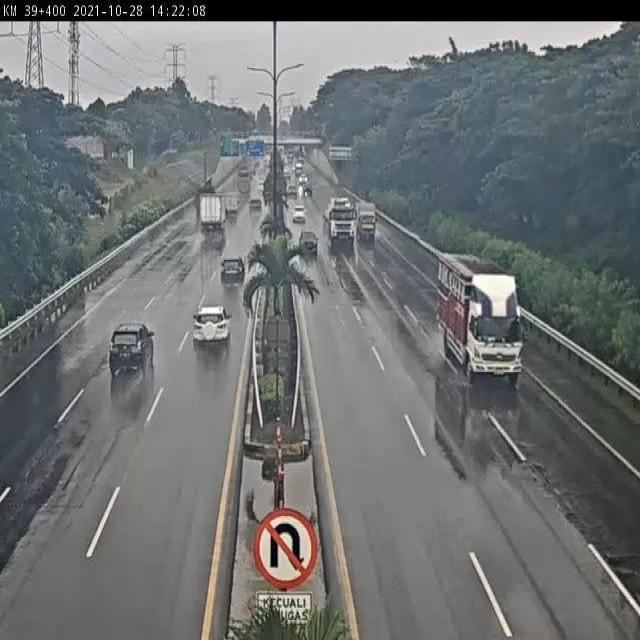car: (104, 322, 158, 378), (188, 304, 234, 355), (219, 254, 246, 286), (299, 228, 320, 256)
truck-l-: (435, 256, 524, 379), (196, 194, 224, 234)
truck-s-: (354, 196, 378, 245)
truck-xl-: (323, 194, 357, 247)
